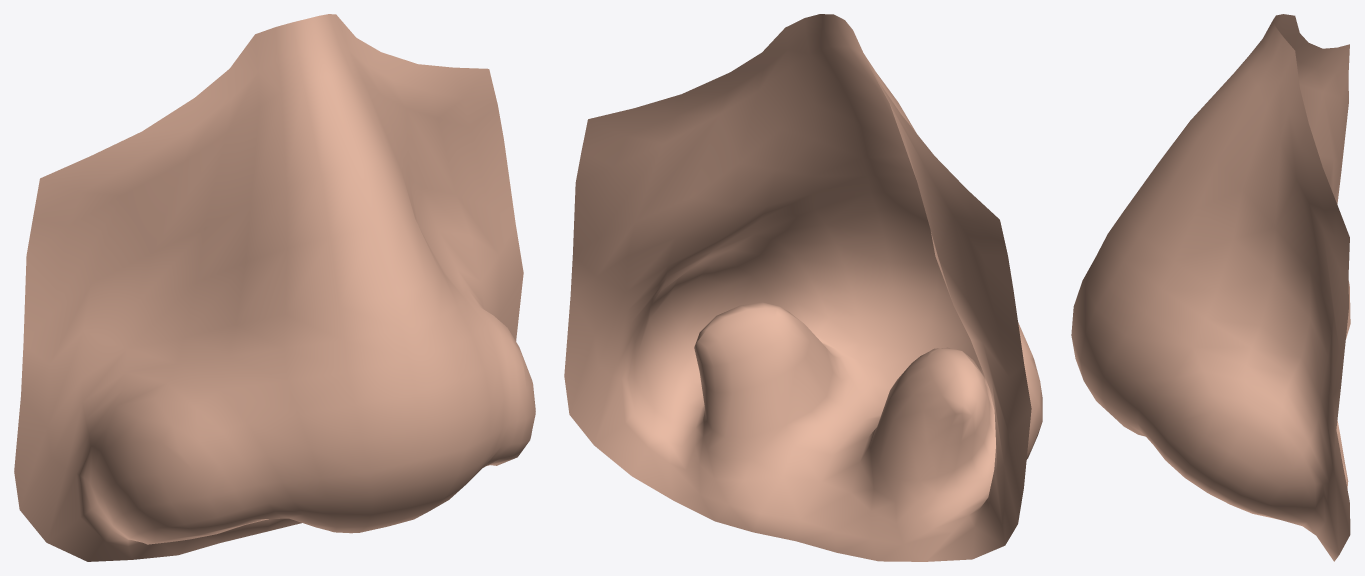
Rendered from Nose 03.glb.
3 views of the same model, side by side, from view 1: azimuth 30°, elevation 25°; view 2: azimuth 150°, elevation 25°; view 3: azimuth 270°, elevation 25° (orthographic). The views are drawn at different scales.
Parts seen in each view (by area): view 1: nose03; view 2: nose03; view 3: nose03.
Part boxes in pixels (x1,y1,x2,y2): nose03: [14, 14, 535, 561]; nose03: [564, 14, 1042, 561]; nose03: [1071, 14, 1350, 561].
Size of the model in its own units: 0.000983 by 0.00102 by 0.000536.
